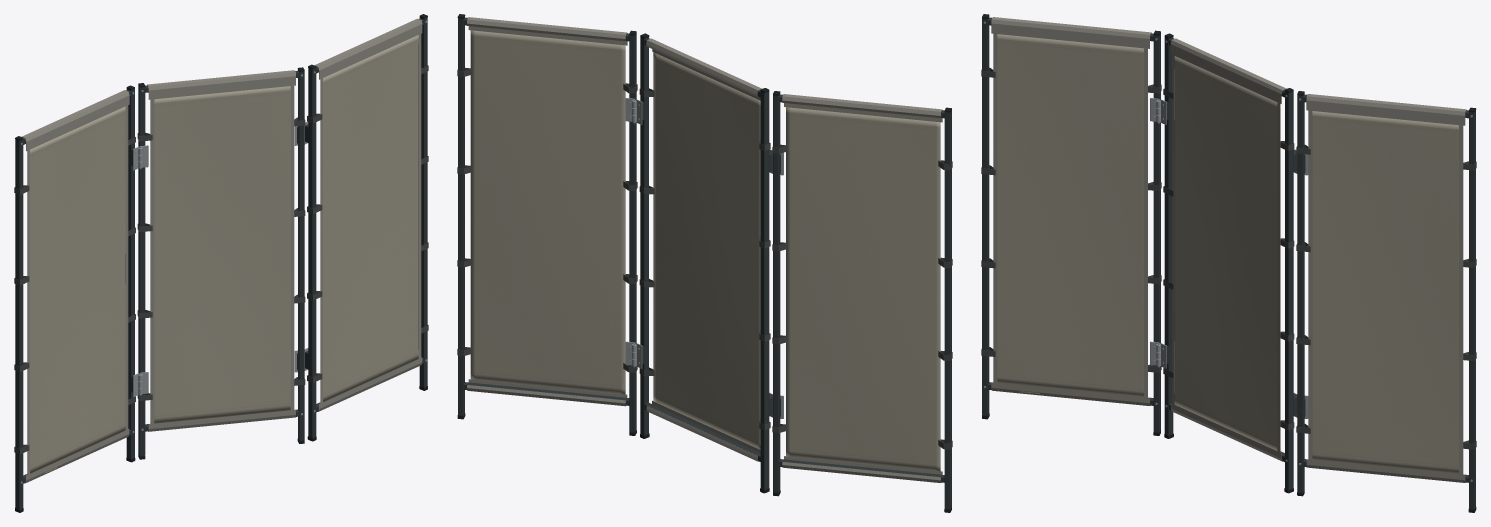
File: P03_Folding_Partition.glb
3 views of the same model, side by side, from view 1: azimuth 30°, elevation 25°; view 2: azimuth 150°, elevation 25°; view 3: azimuth 330°, elevation 25° (orthographic). The views are drawn at different scales.
Visible parts, largest first — view 1: P2_Fabric_tensioned_main, P1_Fabric_tensioned_main, P3_Fabric_tensioned_main, P3_Frame_upright_L, P1_Frame_upright_L, P3_Frame_upright_R, P2_Frame_upright_R, P2_Frame_upright_L, P2_Rail_pocket_top, P1_Frame_upright_R, P1_Rail_pocket_top, P3_Rail_pocket_top (+9 smaller); view 2: P3_Fabric_tensioned_main, P1_Fabric_tensioned_main, P2_Fabric_tensioned_main, P2_Frame_upright_L, P2_Frame_upright_R, P1_Frame_upright_L, P1_Frame_upright_R, P3_Frame_upright_L, P3_Frame_upright_R, P3_Rail_pocket_top, P1_Rail_pocket_top, P3_Rail_pocket_bottom (+5 smaller); view 3: P1_Fabric_tensioned_main, P3_Fabric_tensioned_main, P2_Fabric_tensioned_main, P2_Frame_upright_R, P3_Frame_upright_L, P1_Frame_upright_L, P2_Frame_upright_L, P3_Rail_pocket_top, P1_Rail_pocket_top, P1_Frame_upright_R, P3_Frame_upright_R, P2_Rail_pocket_top (+9 smaller).
Part boxes in pixels (box(x1,y1,x2,y2)): P2_Fabric_tensioned_main: box(154, 86, 290, 423); P1_Fabric_tensioned_main: box(30, 106, 125, 473); P3_Fabric_tensioned_main: box(323, 35, 418, 402); P3_Frame_upright_L: box(308, 68, 316, 437); P1_Frame_upright_L: box(15, 139, 23, 509); P3_Frame_upright_R: box(419, 17, 427, 387); P2_Frame_upright_R: box(298, 70, 304, 440); P2_Frame_upright_L: box(138, 85, 145, 455); P2_Rail_pocket_top: box(147, 70, 295, 99); P1_Frame_upright_R: box(126, 89, 134, 458); P1_Rail_pocket_top: box(21, 90, 129, 151); P3_Rail_pocket_top: box(314, 18, 422, 79); P3_Fabric_tensioned_main: box(470, 30, 625, 394); P1_Fabric_tensioned_main: box(786, 107, 940, 471); P2_Fabric_tensioned_main: box(653, 52, 760, 449); P2_Frame_upright_L: box(760, 91, 769, 489); P2_Frame_upright_R: box(640, 37, 648, 435); P1_Frame_upright_L: box(944, 110, 951, 508); P1_Frame_upright_R: box(773, 93, 780, 492); P3_Frame_upright_L: box(629, 33, 636, 432); P3_Frame_upright_R: box(458, 17, 464, 415); P3_Rail_pocket_top: box(467, 17, 627, 45); P1_Rail_pocket_top: box(782, 94, 942, 122); P3_Rail_pocket_bottom: box(467, 379, 627, 406); P1_Fabric_tensioned_main: box(997, 34, 1143, 397); P3_Fabric_tensioned_main: box(1312, 111, 1458, 473); P2_Fabric_tensioned_main: box(1174, 56, 1280, 452); P2_Frame_upright_R: box(1285, 91, 1293, 489); P3_Frame_upright_L: box(1297, 93, 1304, 492); P1_Frame_upright_L: box(982, 17, 989, 415); P2_Frame_upright_L: box(1164, 37, 1173, 435); P3_Rail_pocket_top: box(1306, 94, 1466, 125); P1_Rail_pocket_top: box(991, 17, 1151, 48); P1_Frame_upright_R: box(1153, 33, 1160, 432); P3_Frame_upright_R: box(1469, 110, 1475, 509); P2_Rail_pocket_top: box(1170, 38, 1286, 103).
Bounding box in the file's own units: 2.21 × 1.82 × 0.2519.
Materials: 7 (1 with a texture image).
